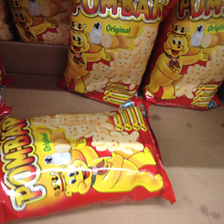chips: (1, 107, 172, 220), (62, 1, 164, 109), (147, 3, 224, 109)
